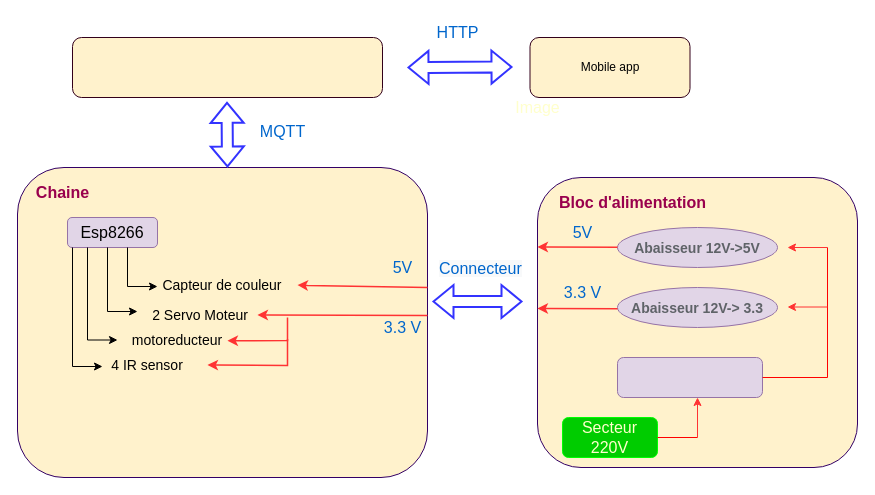
Some shapes in this 875 by 495 pixel diagram are drawn without their labels. The box of each missing label's shape, as (x1, y1, x2, y2) in pixels:
API(node js): (72, 36, 382, 98)
Convertisseur 12 v 220 v: (616, 356, 762, 398)
